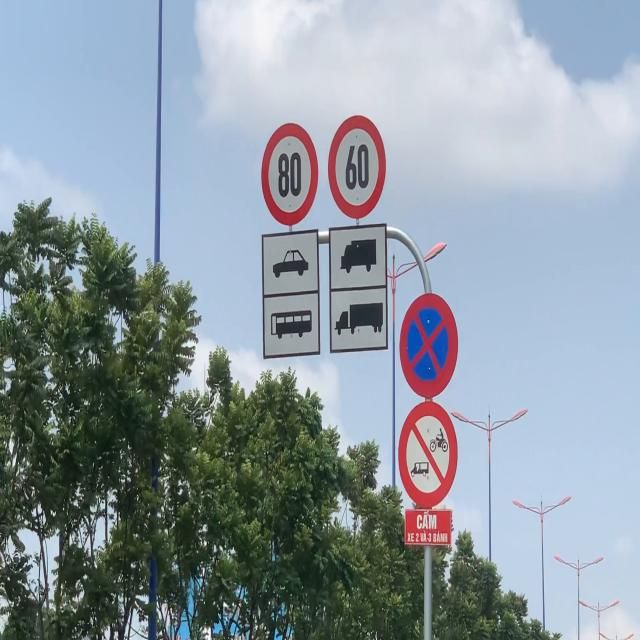Cam con lai: (396, 401, 459, 512)
Cam dung va do: (398, 290, 460, 400)
Toc do toi da: (259, 117, 318, 228), (326, 115, 387, 217)
